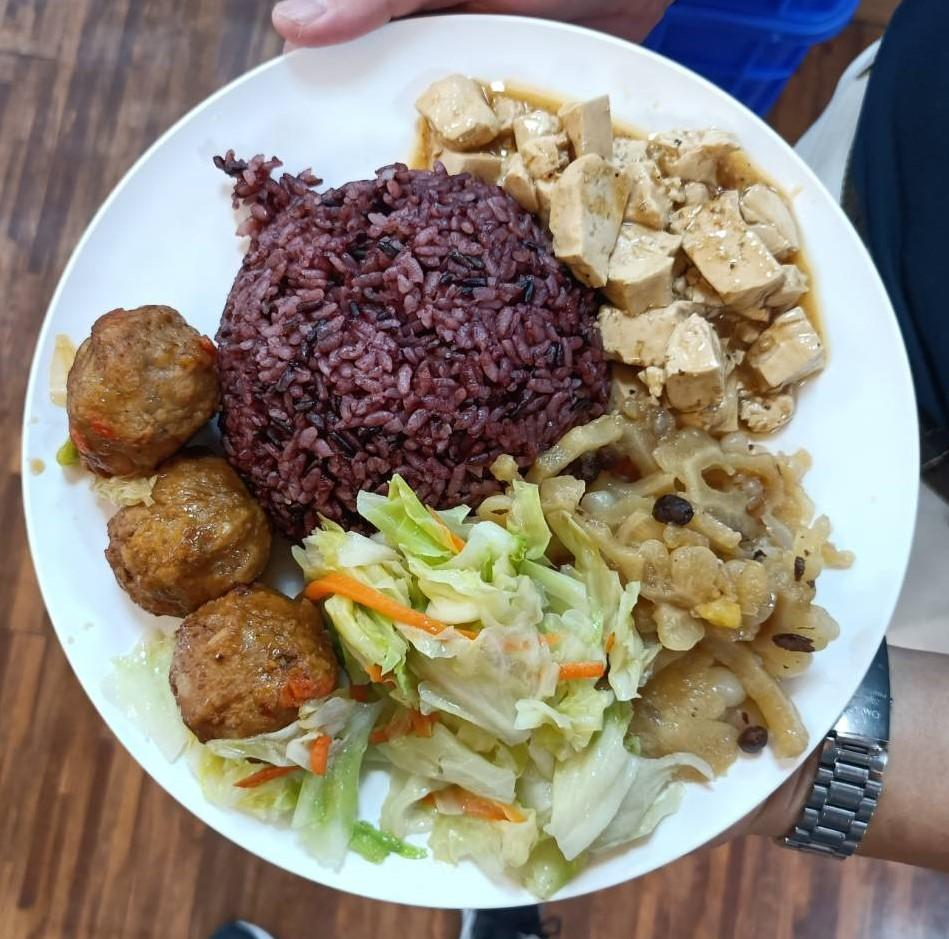big fried chicken leg: (24, 12, 936, 894)
braised fish: (222, 168, 595, 504)
braised fish fillet: (284, 474, 666, 870), (428, 88, 831, 438), (519, 400, 864, 761)
braised pork: (54, 292, 346, 760)
